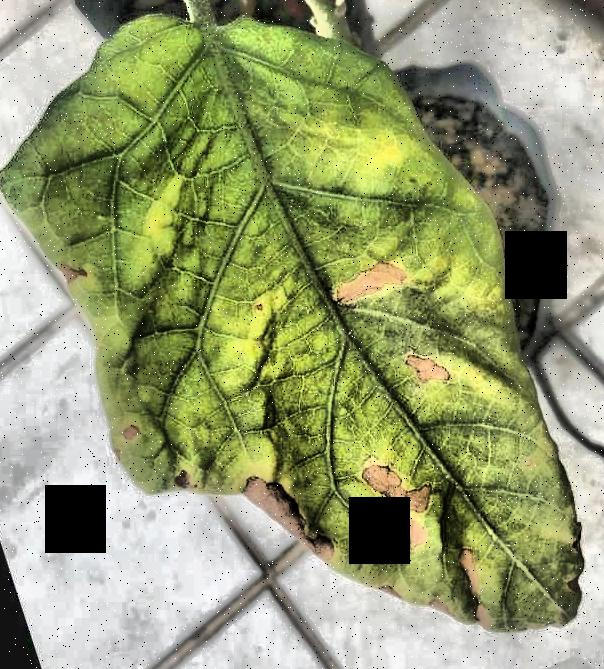Non-critical Stress: (1, 0, 604, 669)
